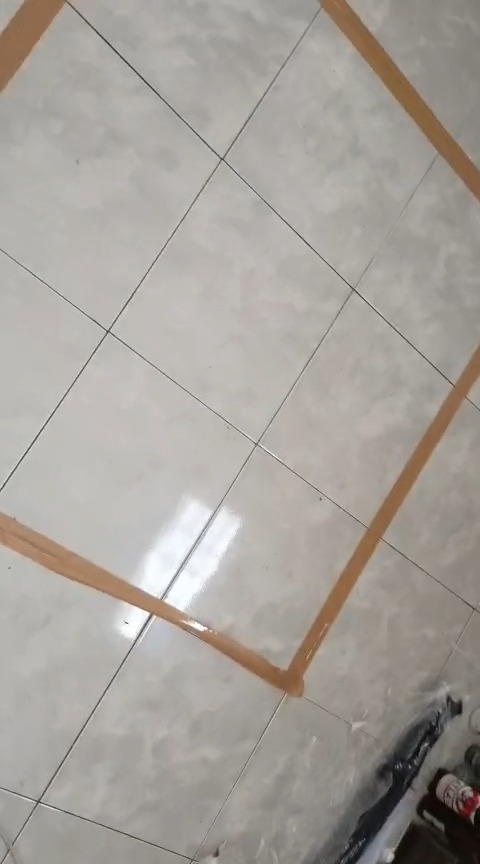floor marking: (0, 345, 479, 695), (323, 0, 479, 200), (0, 0, 65, 93)
